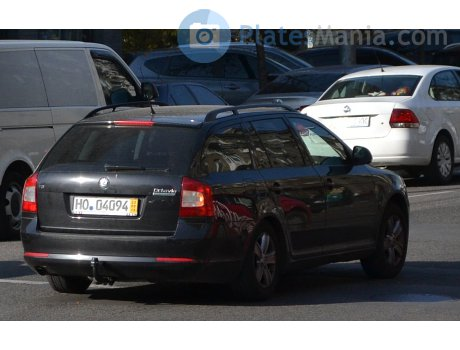License Plates: (72, 195, 137, 216)
